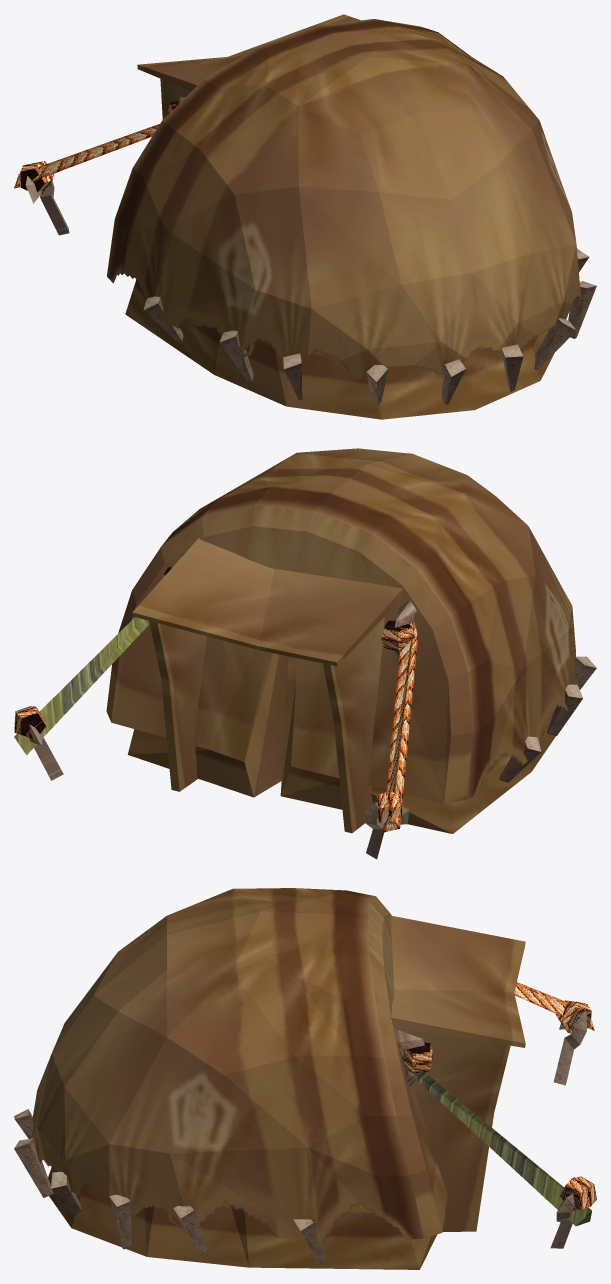
Rendered from C1SMTUNDRATENTH.obj.
The picture shows the model from 3 angles, top to bottom: view 1: azimuth 30°, elevation 25°; view 2: azimuth 150°, elevation 25°; view 3: azimuth 270°, elevation 25°; orthographic projection. The views are drawn at different scales.
Parts seen in each view (by area): view 1: Node 1, Node 0, Node 5, Node 6, Node 8; view 2: Node 1, Node 6, Node 8, Node 7, Node 5, Node 4, Node 0, Node 3; view 3: Node 1, Node 6, Node 7, Node 4, Node 0, Node 5, Node 3.
Part boxes in pixels (x1,y1,x2,y2): Node 1: (107, 19, 580, 419); Node 0: (143, 248, 596, 405); Node 5: (14, 124, 159, 235); Node 6: (137, 14, 360, 91); Node 8: (160, 78, 191, 119); Node 1: (106, 448, 583, 833); Node 6: (132, 538, 402, 666); Node 8: (323, 617, 384, 833); Node 7: (149, 621, 206, 791); Node 5: (363, 621, 418, 859); Node 4: (14, 617, 149, 780); Node 0: (499, 656, 596, 782); Node 3: (163, 552, 417, 657); Node 1: (32, 888, 447, 1269); Node 6: (390, 915, 525, 1047); Node 7: (395, 1027, 510, 1231); Node 4: (400, 1052, 596, 1248); Node 0: (14, 1109, 326, 1264); Node 5: (514, 982, 594, 1085); Node 3: (393, 1028, 432, 1086).
Bounding box in the file's own units: 6.79 × 4.48 × 8.5.
Materials: 13 (13 with a texture image).
